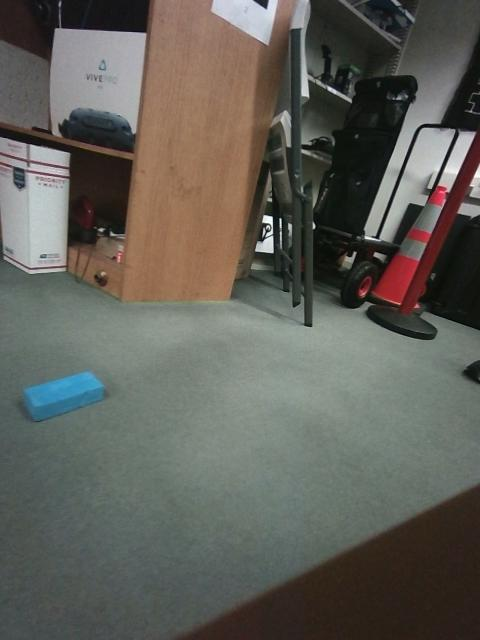block: (307, 330, 359, 374)
